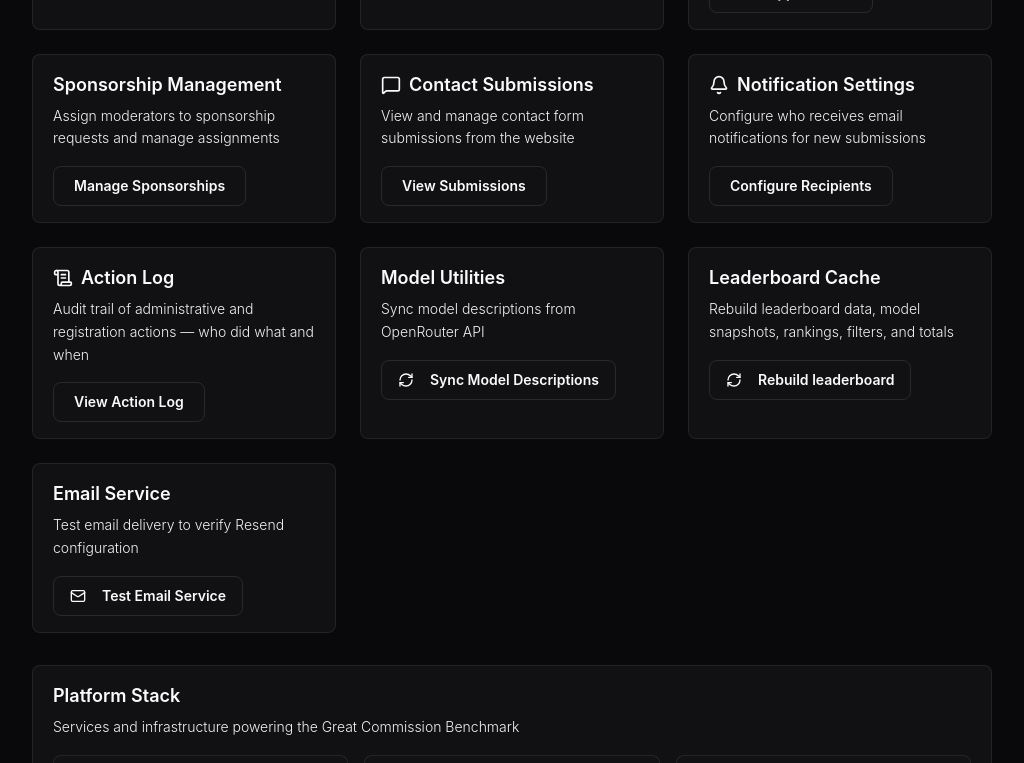
it: stops after a failed batch and reports updates already completed
The width and height of the screenshot is (1024, 763).
(page scrolled)
Click the button "Sync Model Descriptions" at coordinates (498, 380), box [381, 360, 616, 400]
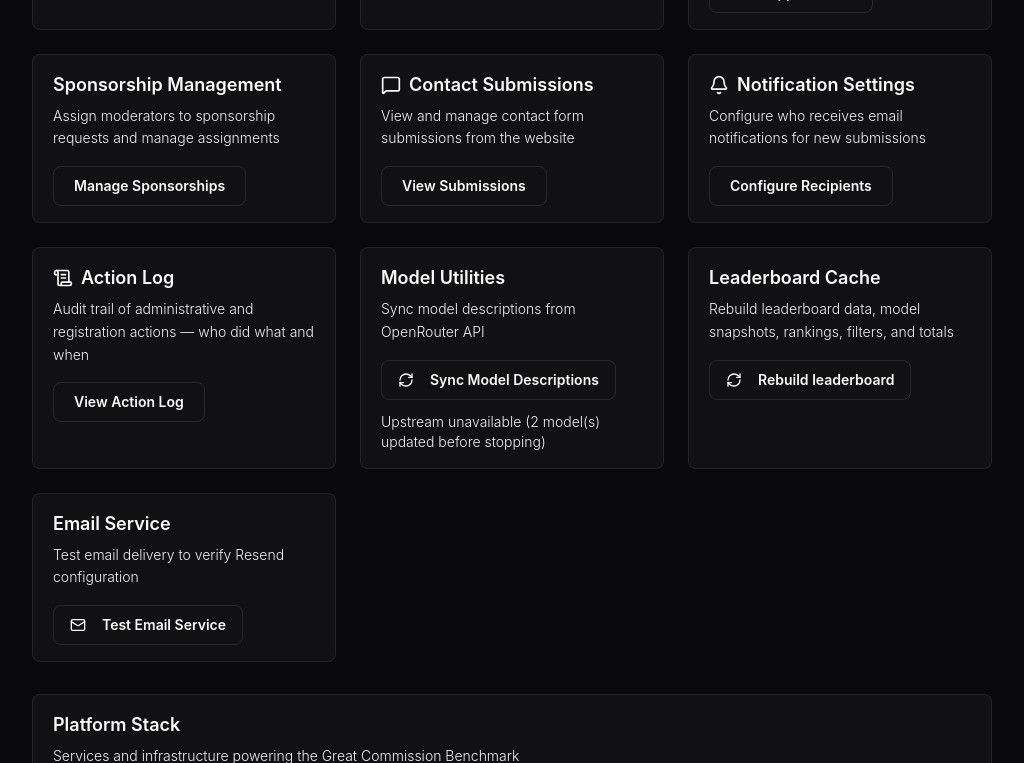
Check: the message reads "Upstream unavailable (2 model(s) updated before stopping)", box [381, 412, 600, 450]
